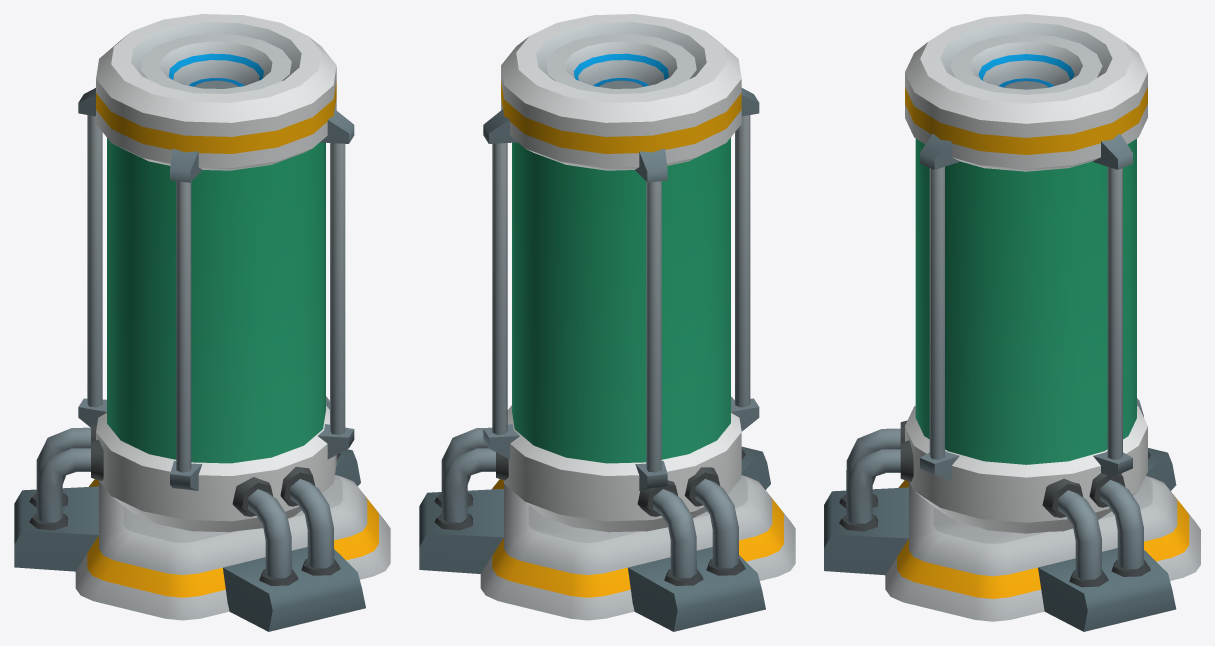
The picture shows the model from 3 angles, left to right: view 1: azimuth 30°, elevation 25°; view 2: azimuth 150°, elevation 25°; view 3: azimuth 270°, elevation 25°; orthographic projection.
Visible parts, largest first — view 1: Сapsule_002; view 2: Сapsule_002; view 3: Сapsule_002.
Part boxes in pixels (<box>): Сapsule_002: <box>14,14,390,631</box>; Сapsule_002: <box>419,14,795,631</box>; Сapsule_002: <box>824,14,1200,631</box>.
Bounding box in the file's own units: 149 × 140 × 200.
